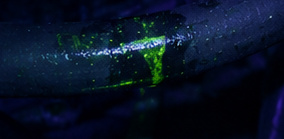hydraulic_oil_leak: (139, 44, 164, 82), (133, 35, 164, 43), (120, 81, 131, 84), (120, 43, 124, 47), (142, 23, 145, 27)
